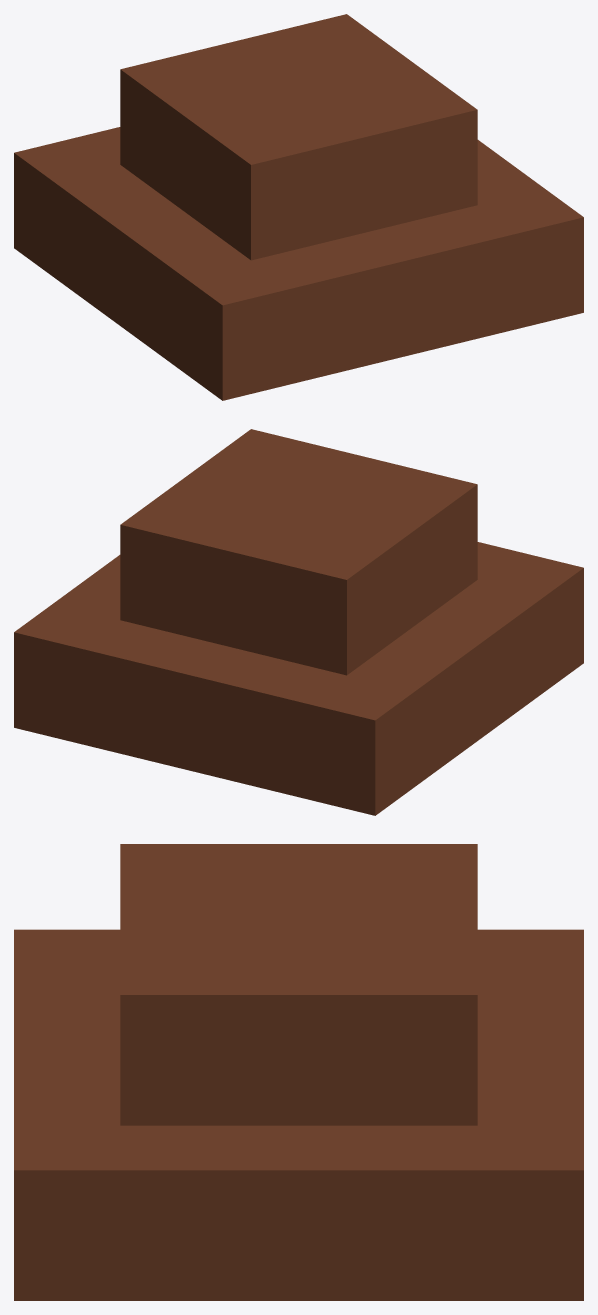
File: sample_food.fbx
3 views of the same model, one above another, from view 1: azimuth 30°, elevation 25°; view 2: azimuth 150°, elevation 25°; view 3: azimuth 270°, elevation 25° (orthographic). The views are drawn at different scales.
Parts seen in each view (by area): view 1: x,x,0.25_foodHight; view 2: x,x,0.25_foodHight; view 3: x,x,0.25_foodHight.
Part boxes in pixels (x1,y1,x2,y2): x,x,0.25_foodHight: [14, 14, 583, 400]; x,x,0.25_foodHight: [14, 429, 583, 815]; x,x,0.25_foodHight: [14, 844, 583, 1300].
Bounding box in the file's own units: 0.4055 × 0.2048 × 0.4055.
1 material, 1 textured.
